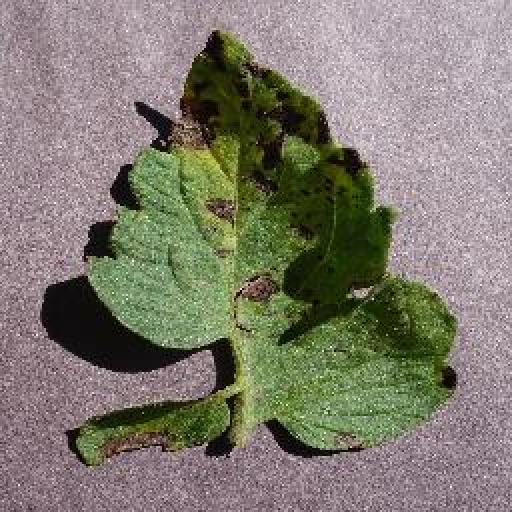Early Blight: (70, 31, 461, 468)
